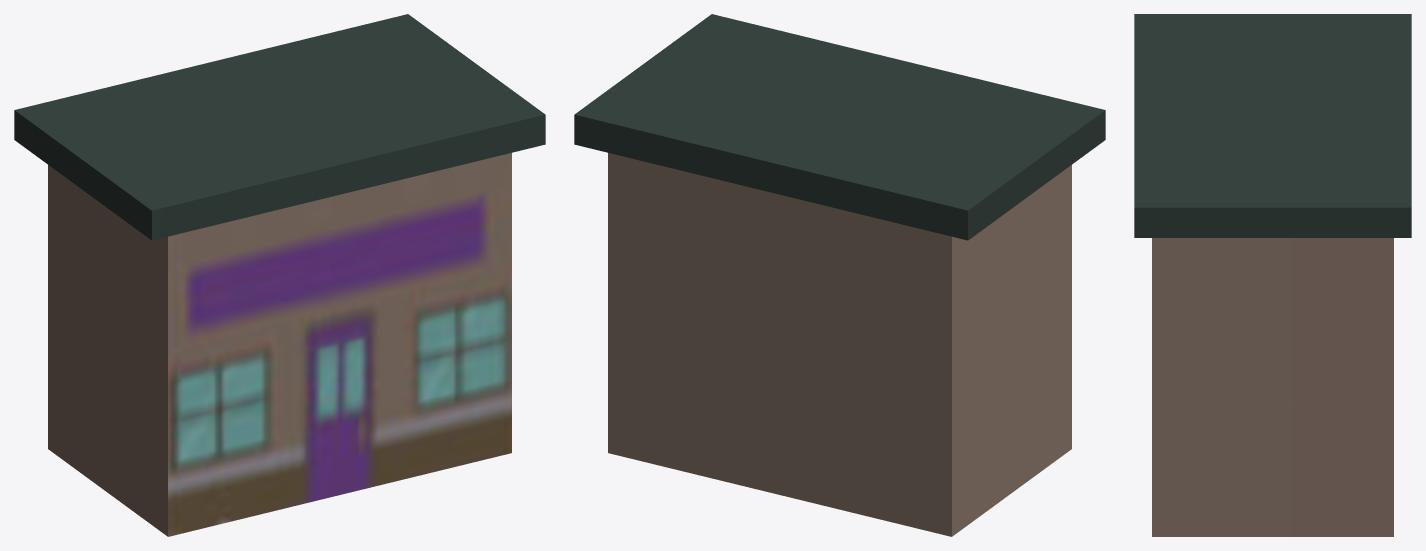
The model's file is prediomarrom.obj.
The picture shows the model from 3 angles, left to right: view 1: azimuth 30°, elevation 25°; view 2: azimuth 150°, elevation 25°; view 3: azimuth 270°, elevation 25°; orthographic projection.
Parts seen in each view (by area): view 1: Cube; view 2: Cube; view 3: Cube.
Part boxes in pixels (x1,y1,x2,y2): Cube: [14, 14, 545, 536]; Cube: [574, 14, 1105, 536]; Cube: [1134, 14, 1411, 536].
Bounding box in the file's own units: 3.79 × 3.12 × 2.29.
